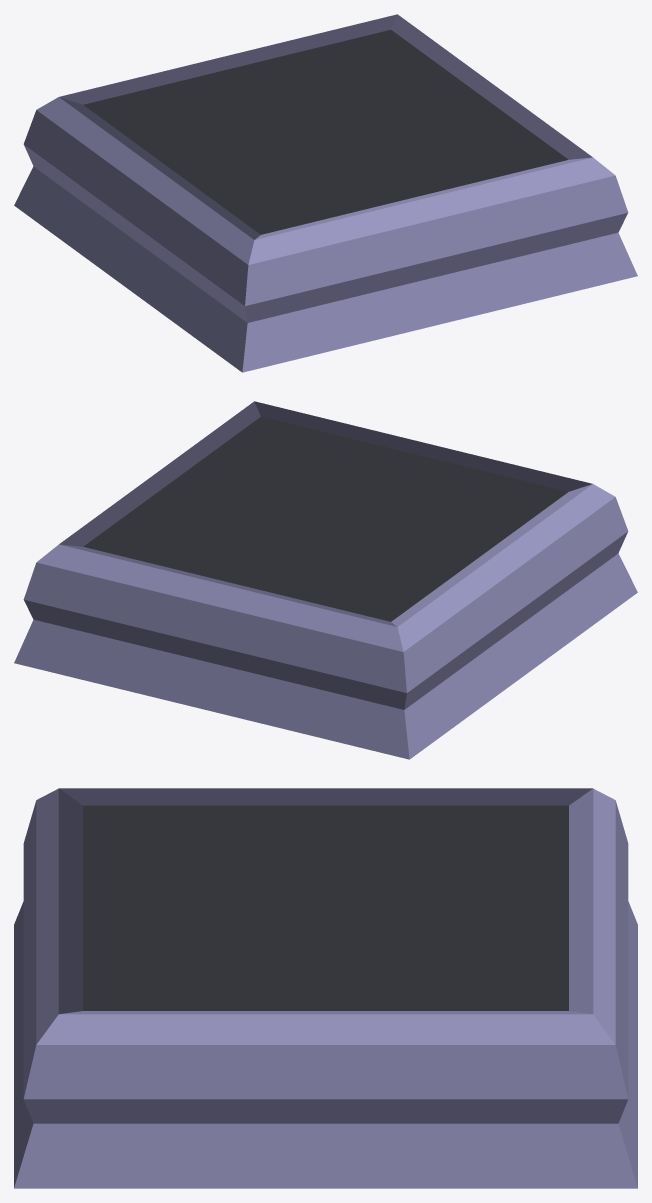
Rendered from RunButton.fbx.
3 renders of one model, top to bottom at view 1: azimuth 30°, elevation 25°; view 2: azimuth 150°, elevation 25°; view 3: azimuth 270°, elevation 25°, orthographic. The views are drawn at different scales.
Visible parts, largest first — view 1: Cube.003; view 2: Cube.003; view 3: Cube.003.
Boxes of the visible parts, bbox=[...] form: Cube.003: bbox=[14, 14, 637, 372]; Cube.003: bbox=[14, 401, 637, 759]; Cube.003: bbox=[14, 788, 637, 1188].
Size of the model in its own units: 1 by 1 by 0.2746.
